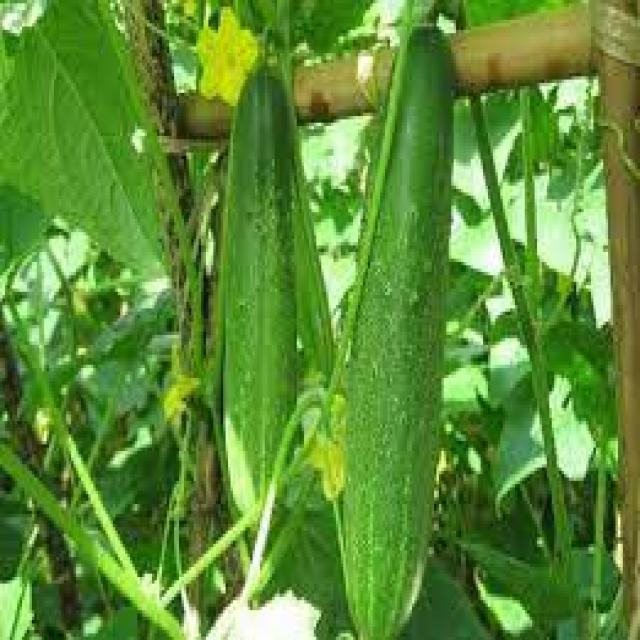cucumber: (342, 17, 454, 640), (225, 70, 297, 530)
